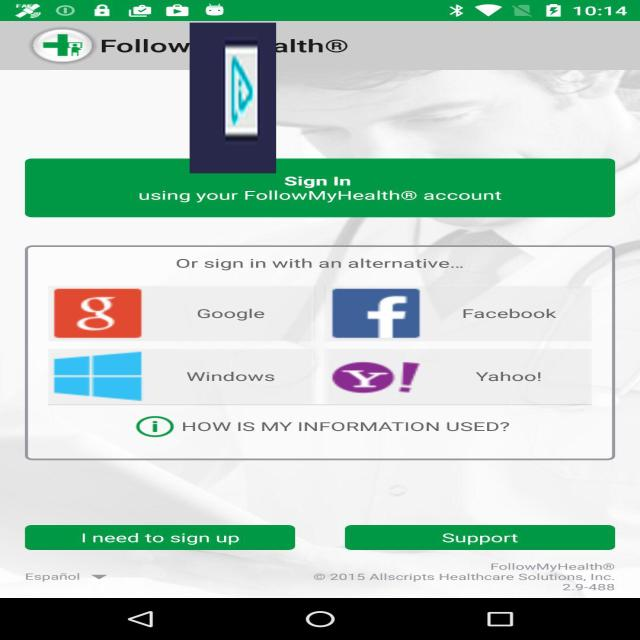sneaking: (190, 23, 276, 173)
